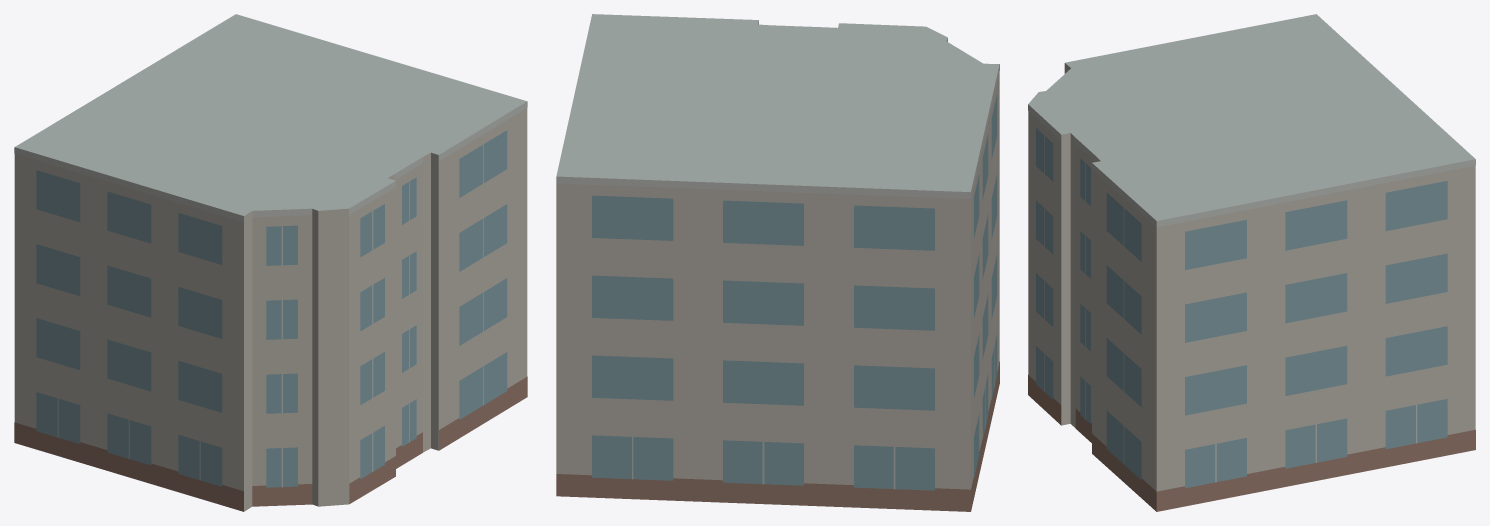
The model's file is survey-upis-32620437.glb.
3 renders of one model, left to right at view 1: azimuth 30°, elevation 25°; view 2: azimuth 150°, elevation 25°; view 3: azimuth 270°, elevation 25°, orthographic. The views are drawn at different scales.
Visible parts, largest first — view 1: survey-upis-32620437.tmp; view 2: survey-upis-32620437.tmp; view 3: survey-upis-32620437.tmp.
Boxes of the visible parts, left/top/right/bottom form: survey-upis-32620437.tmp: left=14, top=14, right=527, bottom=511; survey-upis-32620437.tmp: left=556, top=14, right=999, bottom=511; survey-upis-32620437.tmp: left=1028, top=14, right=1475, bottom=511.
Bounding box in the file's own units: 17.27 × 11.3 × 15.78.
